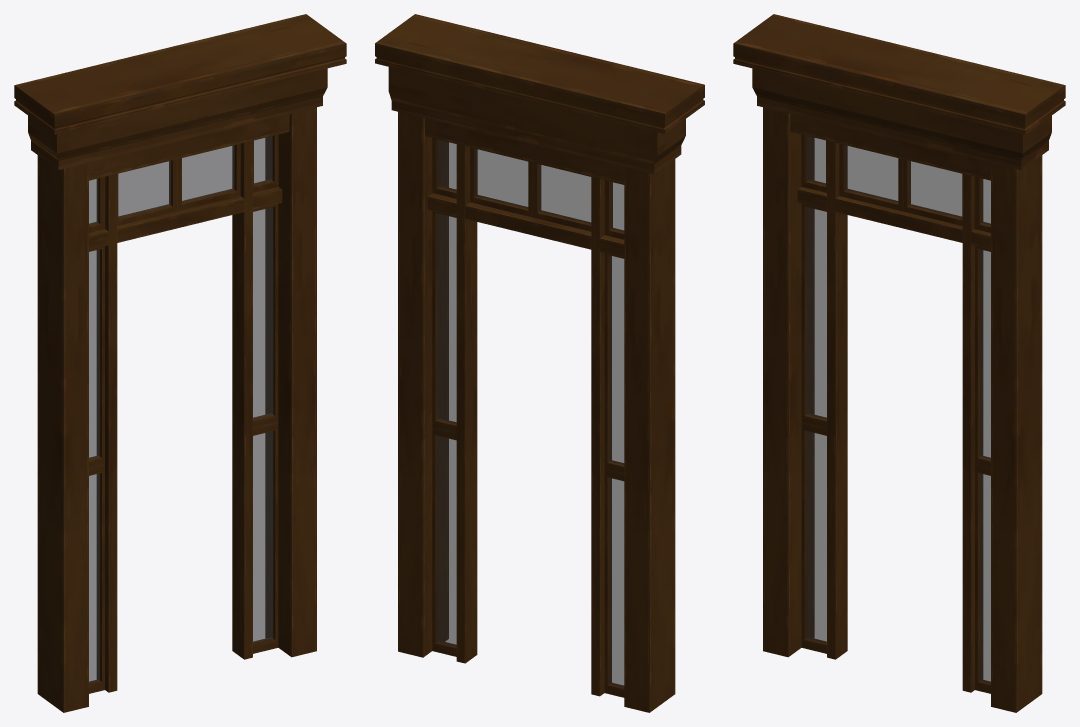
File: mod-porta-madeira.gltf
3 renders of one model, left to right at view 1: azimuth 30°, elevation 25°; view 2: azimuth 150°, elevation 25°; view 3: azimuth 330°, elevation 25°, orthographic.
Parts seen in each view (by area): view 1: DoorFrame_Wooden; view 2: DoorFrame_Wooden; view 3: DoorFrame_Wooden.
Part boxes in pixels (left/top/right/bottom): DoorFrame_Wooden: left=14, top=14, right=346, bottom=712; DoorFrame_Wooden: left=375, top=14, right=704, bottom=712; DoorFrame_Wooden: left=733, top=14, right=1065, bottom=712.
Bounding box in the file's own units: 1 × 2 × 0.239.
Materials: 2 (1 with a texture image).
